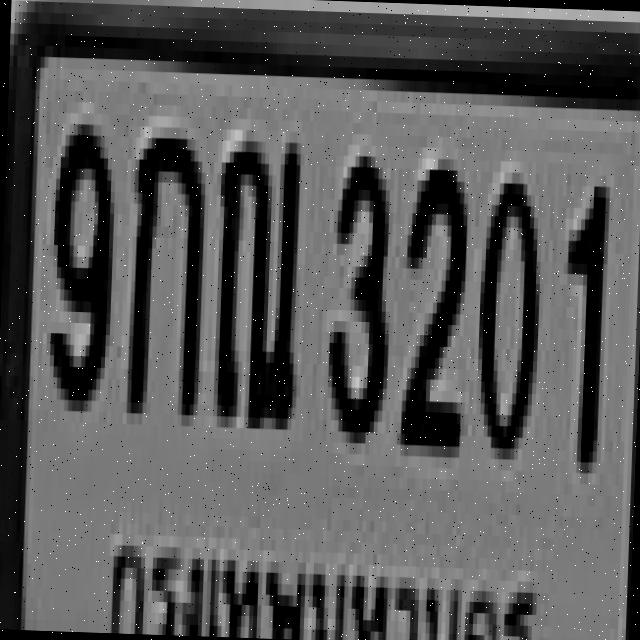0: (470, 160, 540, 449)
1: (556, 174, 606, 462)
10GorGai: (122, 115, 204, 415)
2: (396, 146, 466, 446)
28NorNen: (208, 123, 302, 424)
3: (322, 144, 391, 433)
9: (44, 112, 113, 401)
